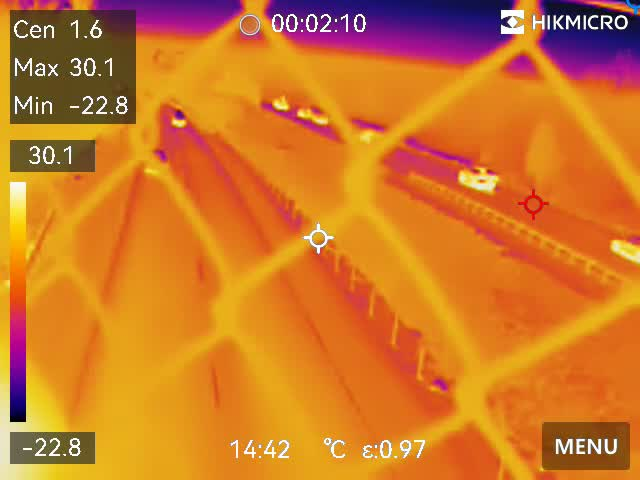vehicle: (451, 164, 508, 197), (167, 107, 192, 132), (265, 98, 294, 116), (307, 109, 327, 126)
